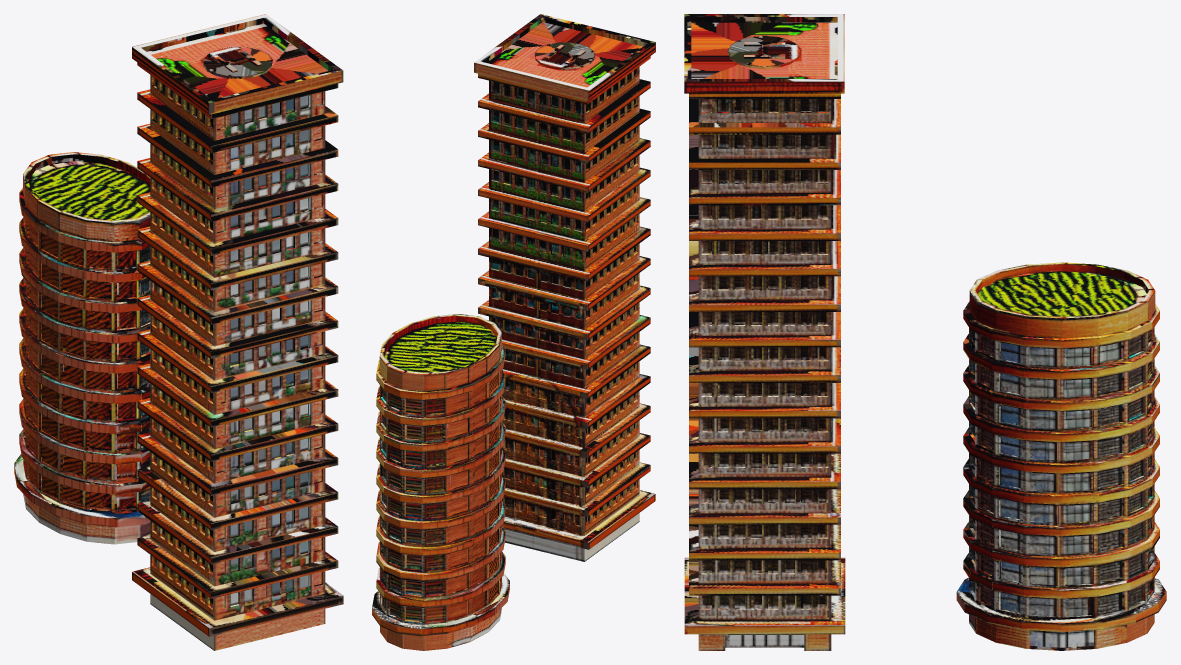
File: textured_image.glb
3 views of the same model, side by side, from view 1: azimuth 30°, elevation 25°; view 2: azimuth 150°, elevation 25°; view 3: azimuth 270°, elevation 25° (orthographic). The views are drawn at different scales.
Visible parts, largest first — view 1: Node; view 2: Node; view 3: Node.
Part boxes in pixels (box(x1,y1,x2,y2)): Node: box(14, 14, 343, 650); Node: box(372, 14, 655, 650); Node: box(684, 14, 1166, 650).
Size of the model in its own units: 0.5074 by 2 by 1.52.
Materials: 1 (1 with a texture image).
